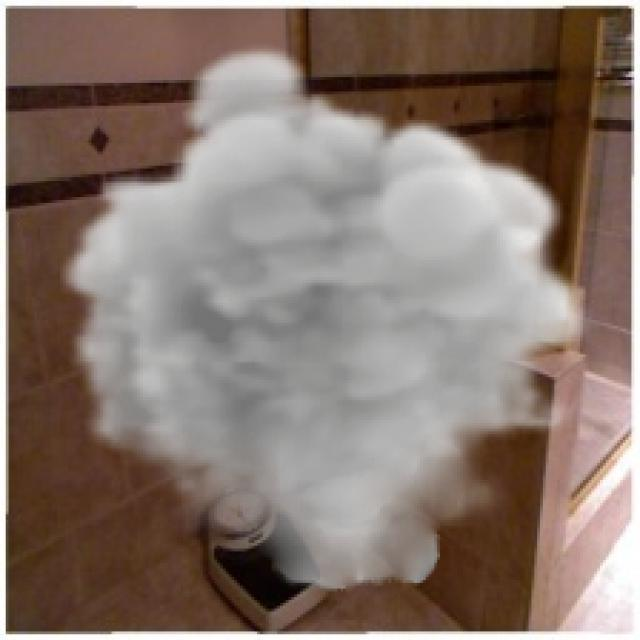Smoke: (59, 39, 592, 594)
